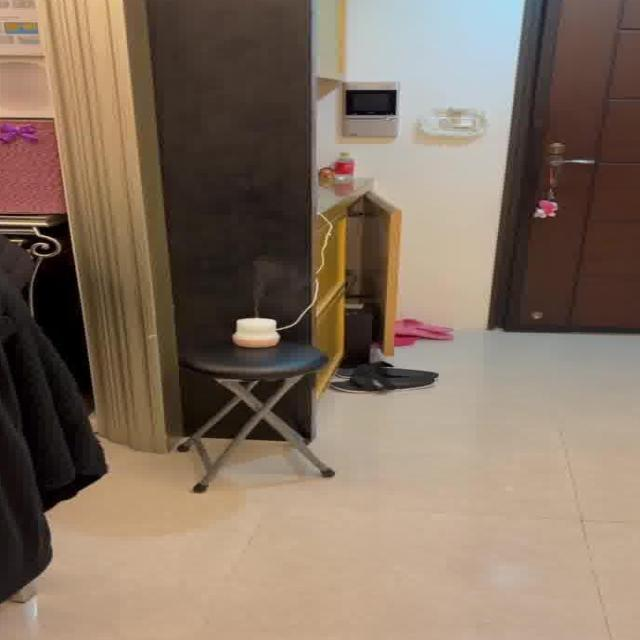fire: (244, 256, 306, 307)
